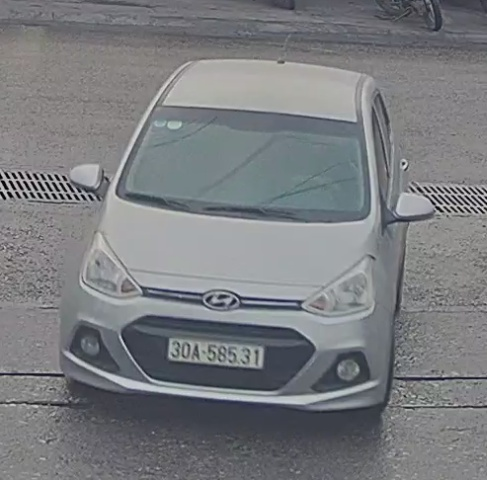vehicle plate: (161, 327, 276, 372)
